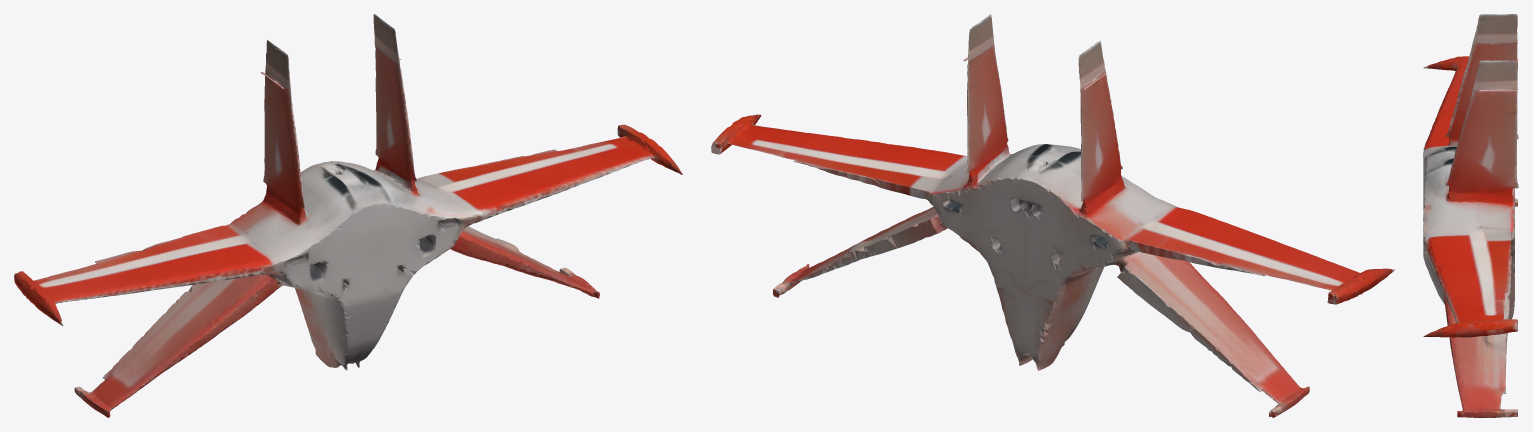
The model's file is viper_wing_R.glb.
The picture shows the model from 3 angles, left to right: view 1: azimuth 30°, elevation 25°; view 2: azimuth 150°, elevation 25°; view 3: azimuth 270°, elevation 25°; orthographic projection. The views are drawn at different scales.
Visible parts, largest first — view 1: viper_wing_R; view 2: viper_wing_R; view 3: viper_wing_R.
Boxes of the visible parts, <box> form: viper_wing_R: <box>14,14,682,417</box>; viper_wing_R: <box>711,14,1394,417</box>; viper_wing_R: <box>1423,14,1518,417</box>.
Size of the model in its own units: 1.9 by 0.9436 by 0.2826.
1 material, 1 textured.
